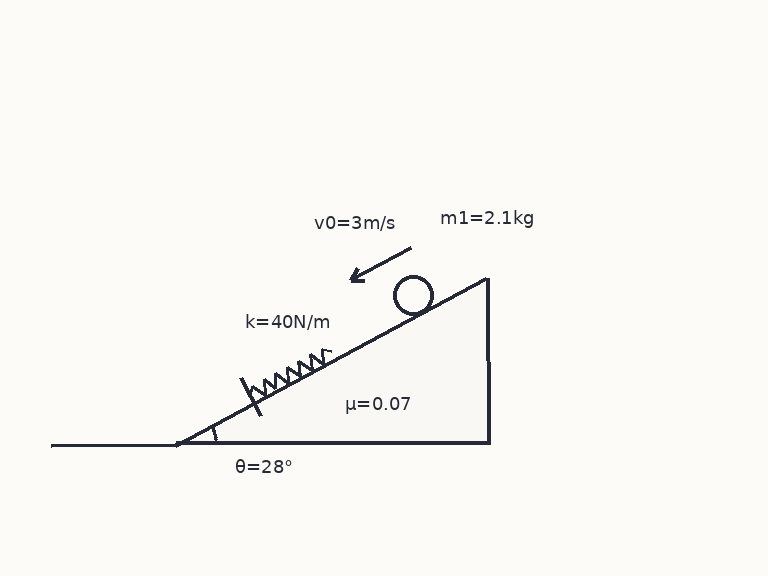ball: (391, 273, 435, 317)
ramp: (174, 276, 490, 446)
spring: (248, 346, 333, 397)
